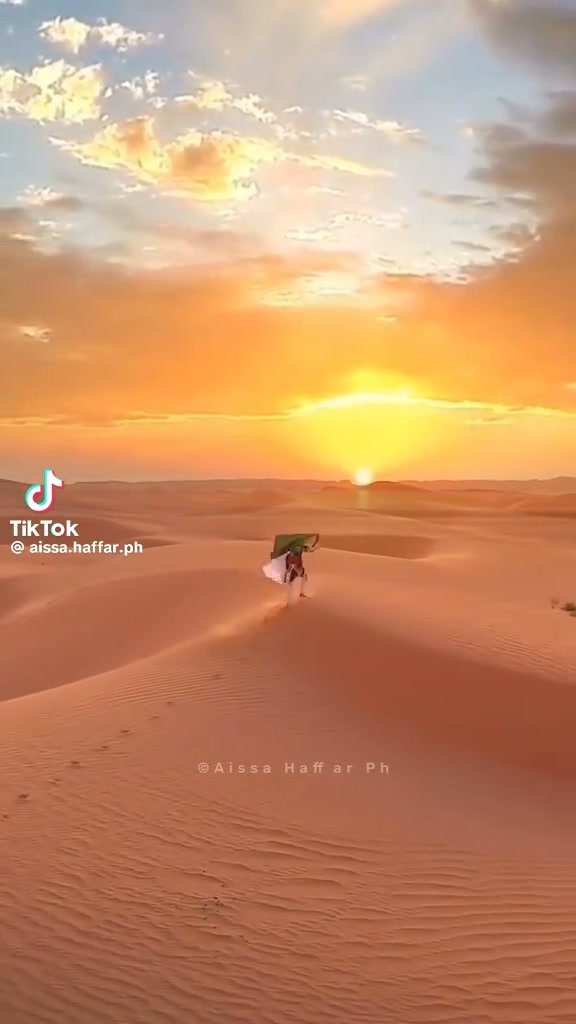human_foot_print: (68, 748, 92, 802), (0, 782, 33, 818), (198, 668, 228, 697), (112, 730, 142, 756), (155, 698, 179, 713)
